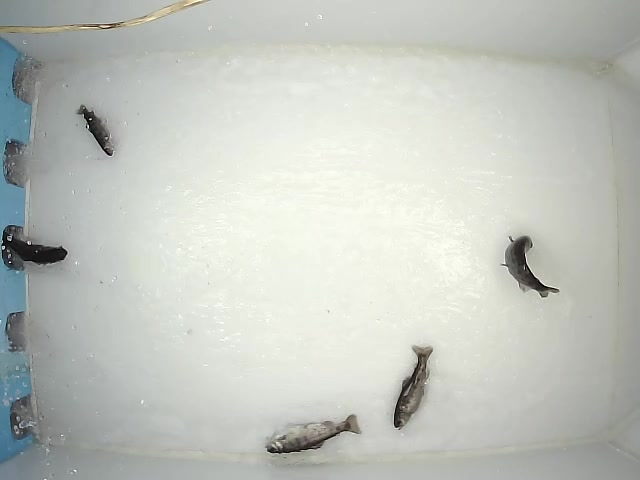fish: (264, 412, 363, 454), (498, 233, 561, 299), (392, 343, 434, 432), (74, 103, 115, 157)
